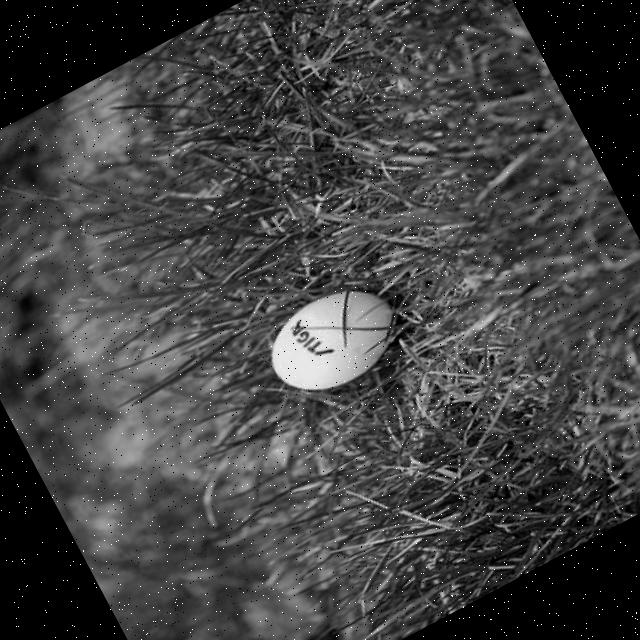ping-pong-ball: (251, 266, 414, 411)
